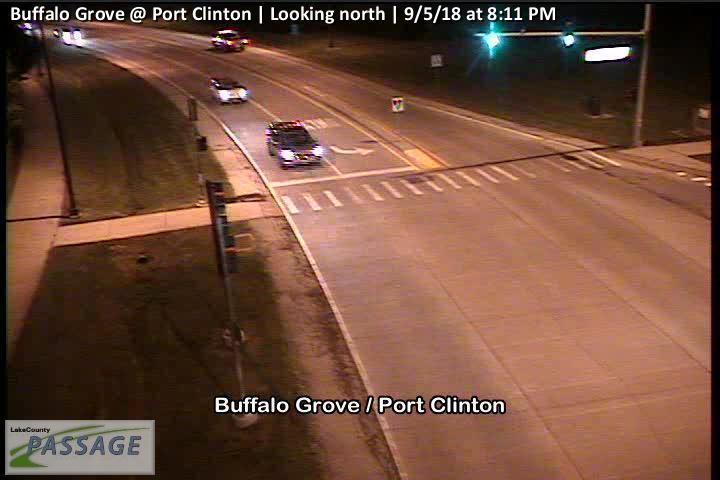Sedan: (265, 121, 321, 168), (208, 77, 248, 104), (210, 30, 247, 52), (56, 26, 83, 40)
